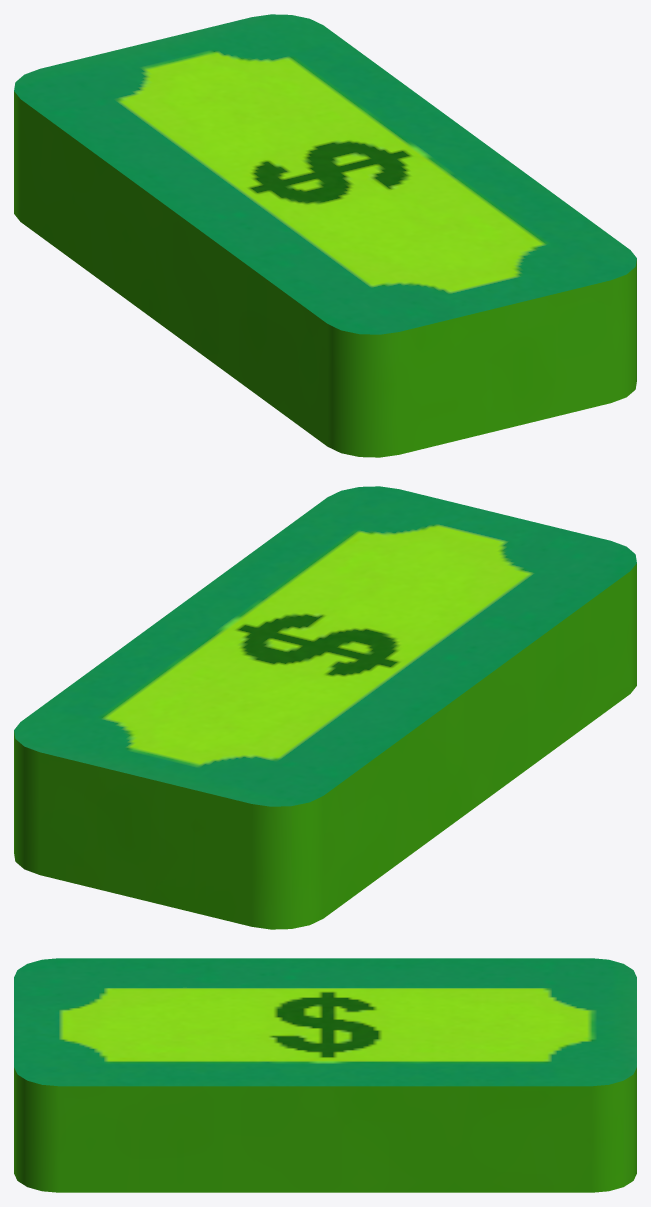
File: money.glb
3 views of the same model, one above another, from view 1: azimuth 30°, elevation 25°; view 2: azimuth 150°, elevation 25°; view 3: azimuth 270°, elevation 25° (orthographic). The views are drawn at different scales.
Visible parts, largest first — view 1: Money; view 2: Money; view 3: Money.
Part boxes in pixels (<box>): Money: <box>14,14,636,457</box>; Money: <box>14,486,636,929</box>; Money: <box>14,958,636,1192</box>.
Bounding box in the file's own units: 0.2084 × 0.0808 × 0.4284.
Materials: 1 (1 with a texture image).
